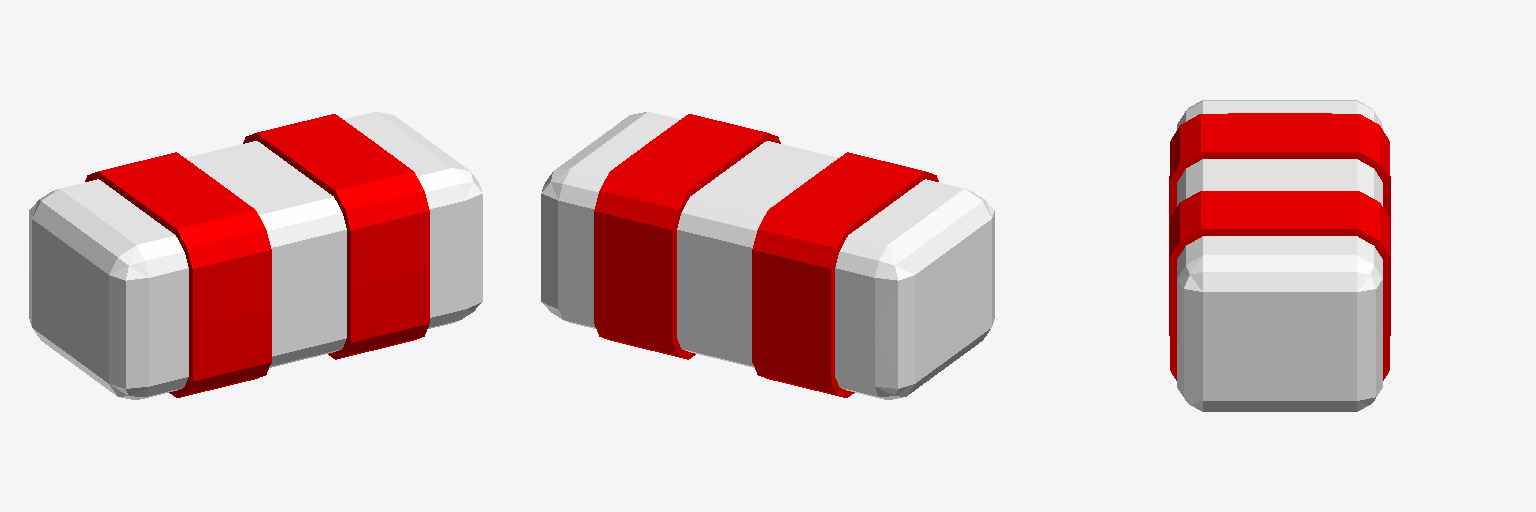
3 views of the same model, side by side, from view 1: azimuth 30°, elevation 25°; view 2: azimuth 150°, elevation 25°; view 3: azimuth 270°, elevation 25° (orthographic).
Parts seen in each view (by area): view 1: OriginalBrick.002_Cube.004; view 2: OriginalBrick.002_Cube.004; view 3: OriginalBrick.002_Cube.004.
Part boxes in pixels (x1,y1,x2,y2): OriginalBrick.002_Cube.004: (29, 112, 482, 399); OriginalBrick.002_Cube.004: (541, 112, 994, 399); OriginalBrick.002_Cube.004: (1169, 100, 1390, 411).
Bounding box in the file's own units: 0.9 × 0.3929 × 0.4645.
1 materials, 1 textured.